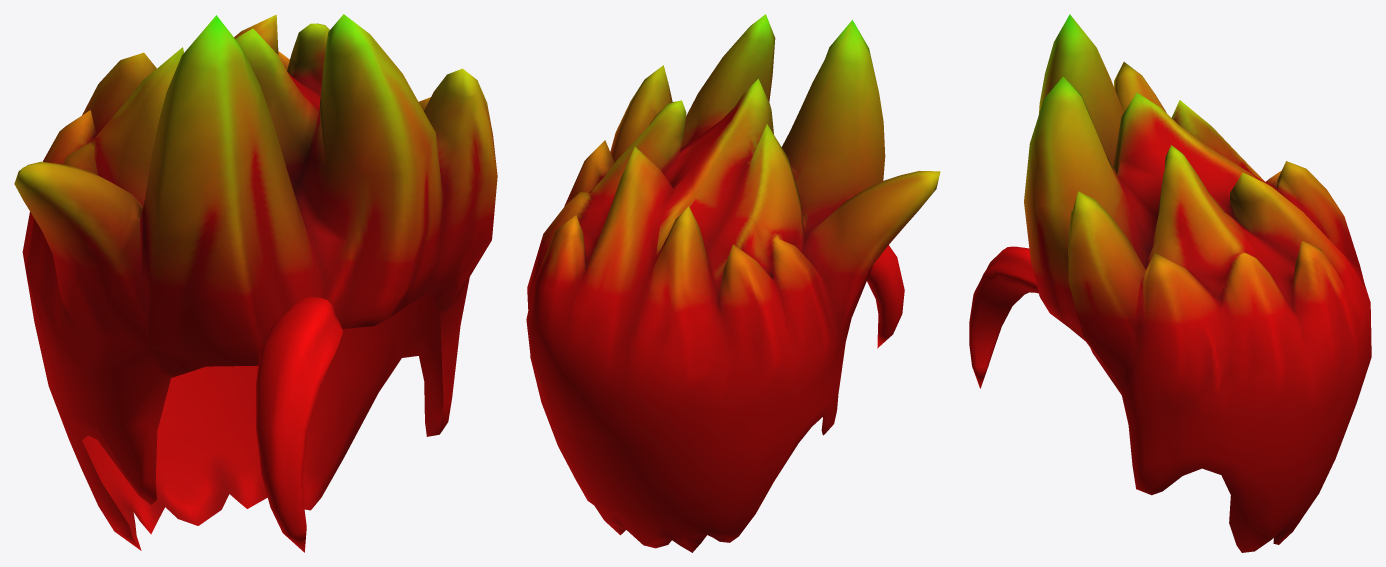
The model's file is Outfit_HairBack_Dude.obj.
3 renders of one model, left to right at view 1: azimuth 30°, elevation 25°; view 2: azimuth 150°, elevation 25°; view 3: azimuth 270°, elevation 25°, orthographic. The views are drawn at different scales.
Parts seen in each view (by area): view 1: Outfit_HairBack_Dude_0; view 2: Outfit_HairBack_Dude_0; view 3: Outfit_HairBack_Dude_0.
Boxes of the visible parts, box(x1,y1,x2,y2) form: Outfit_HairBack_Dude_0: box(14, 14, 497, 552); Outfit_HairBack_Dude_0: box(526, 14, 940, 552); Outfit_HairBack_Dude_0: box(969, 14, 1371, 552).
Bounding box in the file's own units: 0.2615 × 0.3407 × 0.2627.
1 material, 1 textured.
